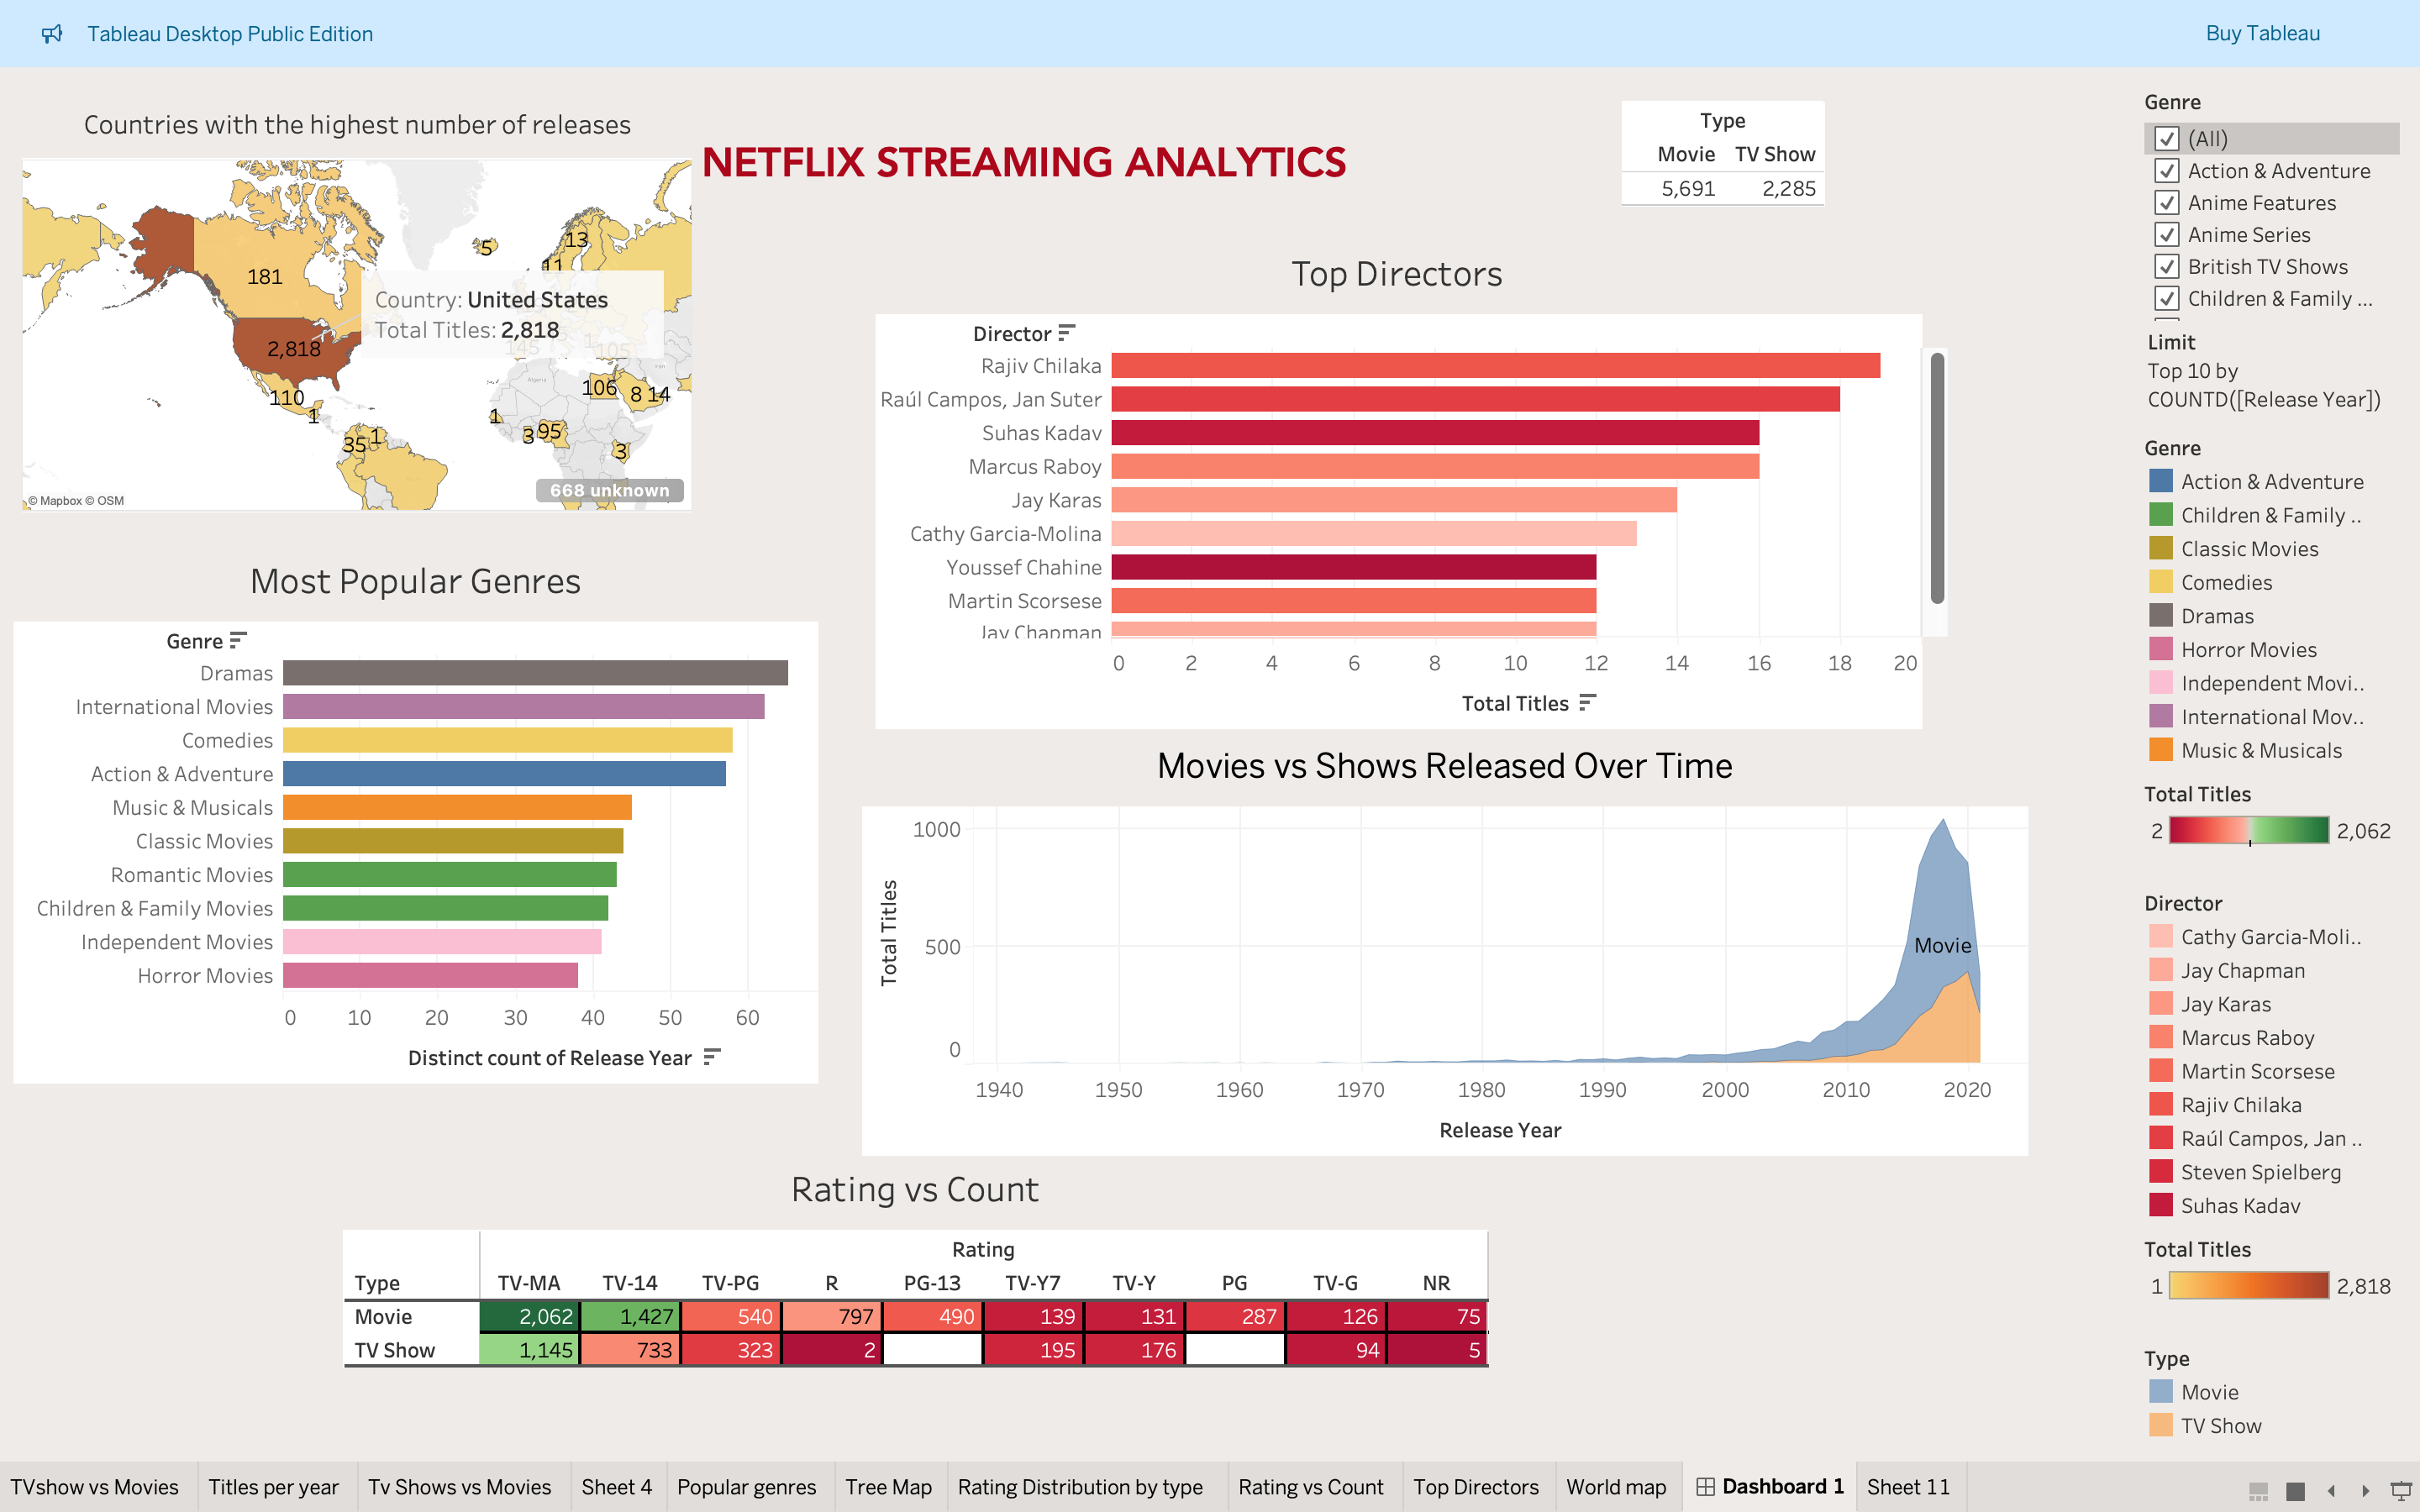

This screenshot's page, from the dashboard's own definition file:
{"tool":"tableau","page":{"name":"Dashboard 1","canvas":[1000,1000],"units":"permille","ordinal":0},"visuals":[{"type":"worksheet","title":"Tv Shows vs Movies","mark":"Automatic","cols":["type"],"box":[670.5,7.8,121.2,159.6]},{"type":"filter","title":"Popular genres","param":"[federated.0j7m8ok1beadgz153c1ck19g4fzq].[none:genre:nk]","box":[863.3,10.4,130.2,241.3]},{"type":"text","box":[288,11,352.3,115.8]},{"type":"worksheet","title":"World map","mark":"Automatic","box":[9,23.4,277.5,296.9]},{"type":"worksheet","title":"Top Directors","mark":"Automatic","rows":["director"],"cols":["total_titles"],"box":[362.1,125.2,443.4,349]},{"type":"legend","title":"Popular genres","param":"[federated.0j7m8ok1beadgz153c1ck19g4fzq].[none:genre:nk]","box":[863.3,251.7,130.2,241.3]},{"type":"worksheet","title":"Popular genres","mark":"Automatic","rows":["genre"],"cols":["release_year"],"box":[5.7,345.9,332.8,422.5]},{"type":"worksheet","title":"Sheet 11","mark":"Area","rows":["total_titles"],"cols":["release_year"],"box":[356.4,480.4,481.7,300.5]},{"type":"legend","title":"Rating vs Count","param":"[federated.1nadna91bti6cp13qwpkl0lm5vyc].[sum:total_titles:qk]","box":[863.3,493,130.2,84.6]},{"type":"legend","title":"Top Directors","param":"[federated.135cllb191ku681488fy20n06nof].[none:director:nk]","box":[863.3,577.7,130.2,241.3]},{"type":"worksheet","title":"Rating vs Count","mark":"Square","rows":["type"],"cols":["rating"],"box":[141.6,782.5,560.6,214.4]},{"type":"legend","title":"World map","param":"[federated.1g6ry3u0ohscx61dzinq20s4bu1q].[sum:total_titles:qk]","box":[863.3,819,130.2,84.6]},{"type":"legend","title":"Sheet 11","param":"[federated.1dkdh1r1meobvb13oc2pt0t8fbo2].[none:type:nk]","box":[863.3,903.6,130.2,86]}]}

Visuals, with their boxes on the dashboard's canvas, which has no fixed pixel size, in thousandths of its width and height (x1, y1, x2, y2). These are canvas units, not pixel positions in the 2420x1512 screenshot, which may show the page scaled, cropped or inside an application window:
"Tv Shows vs Movies" worksheet: 670 8 792 167
"Popular genres" filter: 863 10 994 252
text: 288 11 640 127
"World map" worksheet: 9 23 286 320
"Top Directors" worksheet: 362 125 806 474
"Popular genres" legend: 863 252 994 493
"Popular genres" worksheet: 6 346 338 768
"Sheet 11" worksheet (Area marks): 356 480 838 781
"Rating vs Count" legend: 863 493 994 578
"Top Directors" legend: 863 578 994 819
"Rating vs Count" worksheet (Square marks): 142 782 702 997
"World map" legend: 863 819 994 904
"Sheet 11" legend: 863 904 994 990
